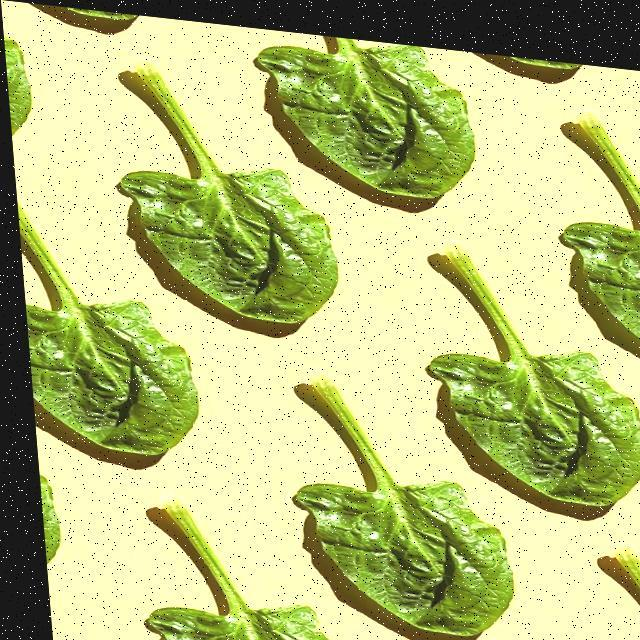Spinach: (371, 207, 640, 510), (77, 45, 360, 332), (268, 349, 526, 640), (12, 189, 217, 466), (237, 21, 500, 213), (120, 475, 373, 640), (542, 86, 640, 359)
